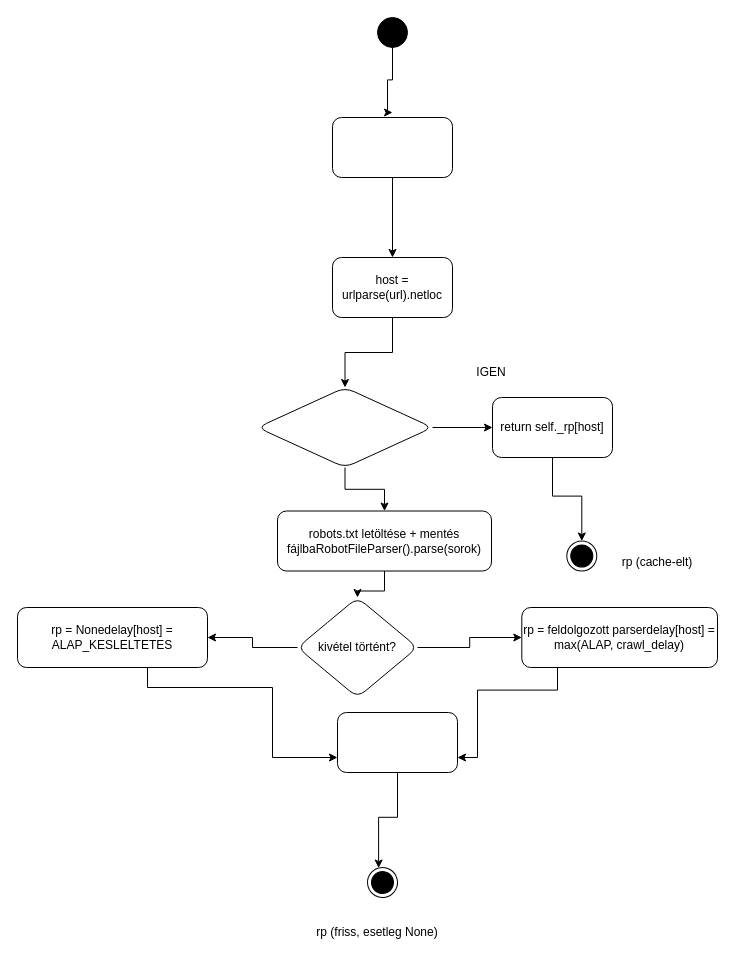
Image size: 735x965. Some labels were removed from this diagram. The box of each missing label's shape, as (x1, y1, x2, y2) in pixels:
Bemenet: url (str): (332, 116, 452, 178)
host szerepel a cache-ben?: (256, 386, 432, 468)
self._rp[host] = rp: (336, 712, 458, 772)
